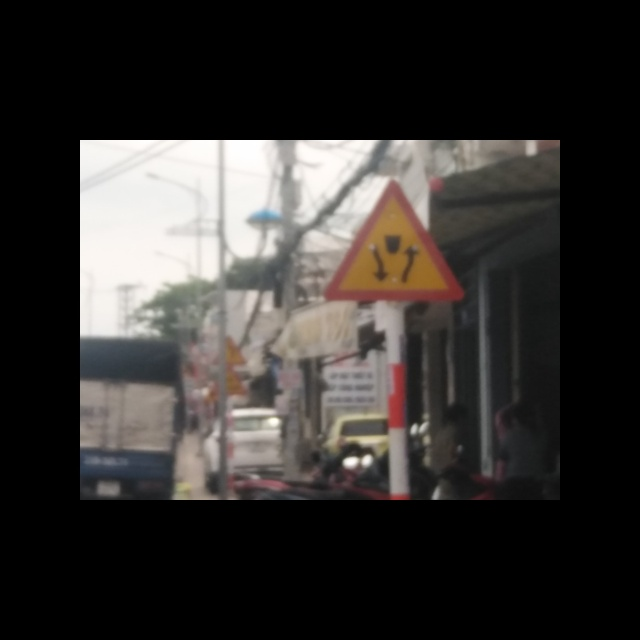Đường đôi: (321, 178, 463, 304)
